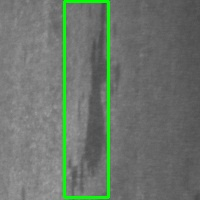inclusion: (64, 1, 108, 197)
